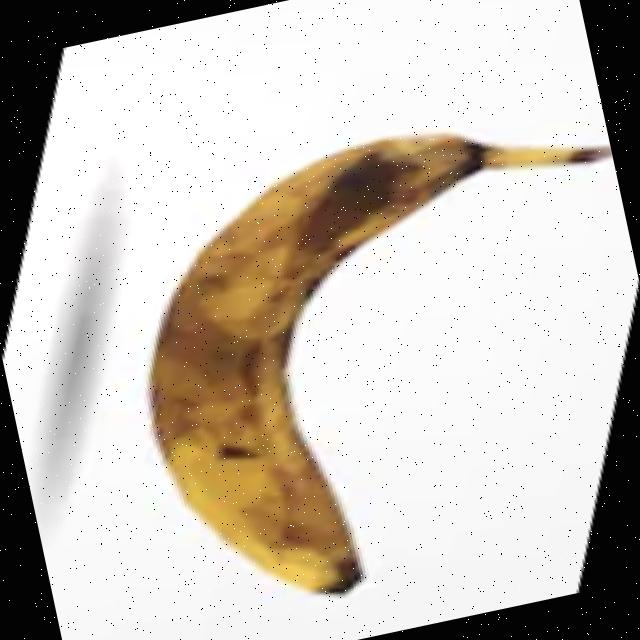overripe: (99, 92, 640, 629)
